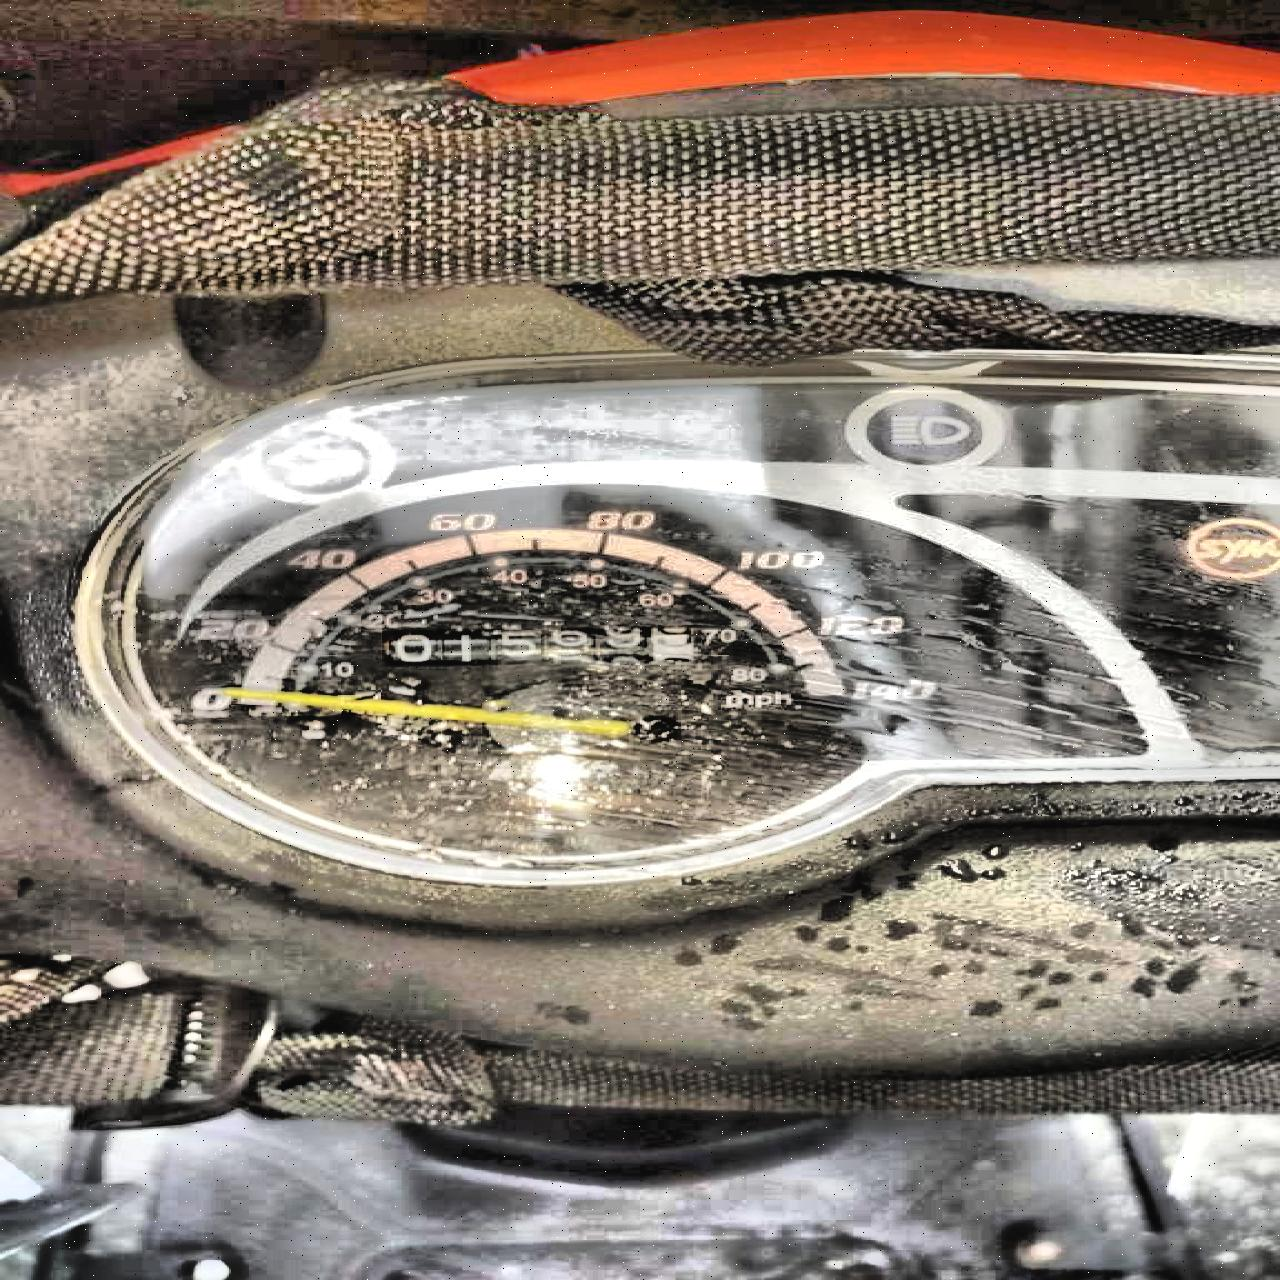0: (392, 631, 433, 661)
1: (451, 629, 478, 663)
5: (496, 627, 543, 655)
9: (551, 625, 595, 658), (653, 624, 697, 652), (602, 622, 640, 652)
odometer: (376, 621, 702, 667)
